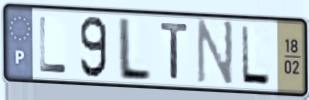9: (78, 14, 109, 80)
L: (116, 15, 155, 84), (239, 23, 273, 89), (37, 14, 69, 75)
N: (195, 18, 236, 90)
T: (158, 21, 191, 82)
